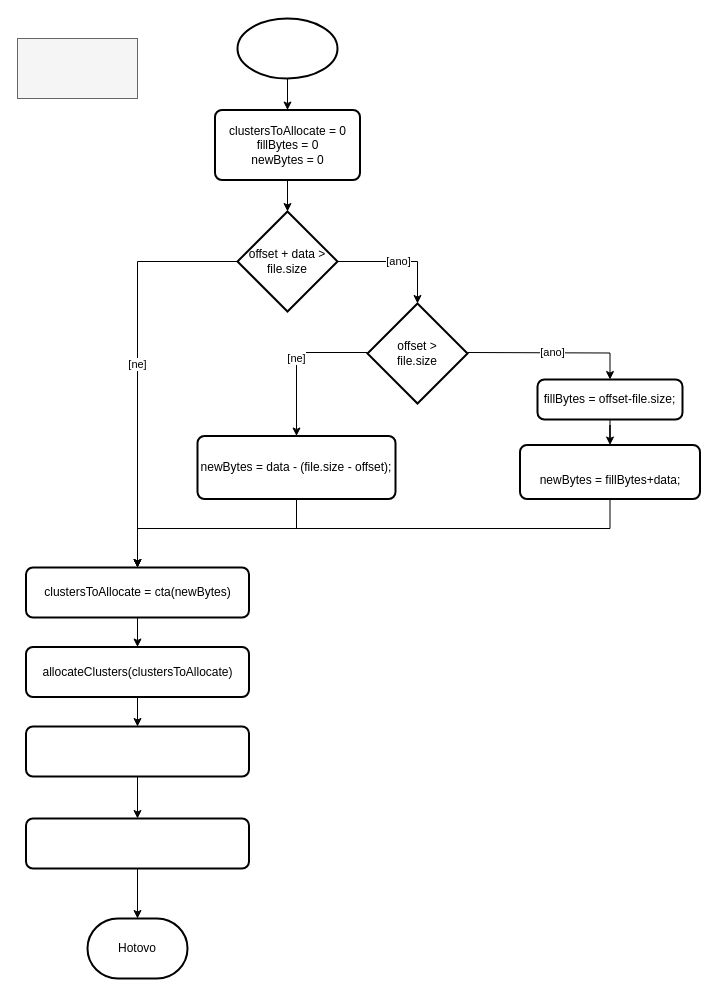
Some shapes in this 718 by 996 pixel diagram are drawn without their labels. The box of each missing label's shape, as (x1, y1, x2, y2) in pixels:
File, offset, data: (16, 38, 138, 98)
Start: (236, 17, 338, 79)
updateFAT(): (24, 817, 250, 869)
writeBytes(fillBytes+data): (24, 725, 250, 777)
